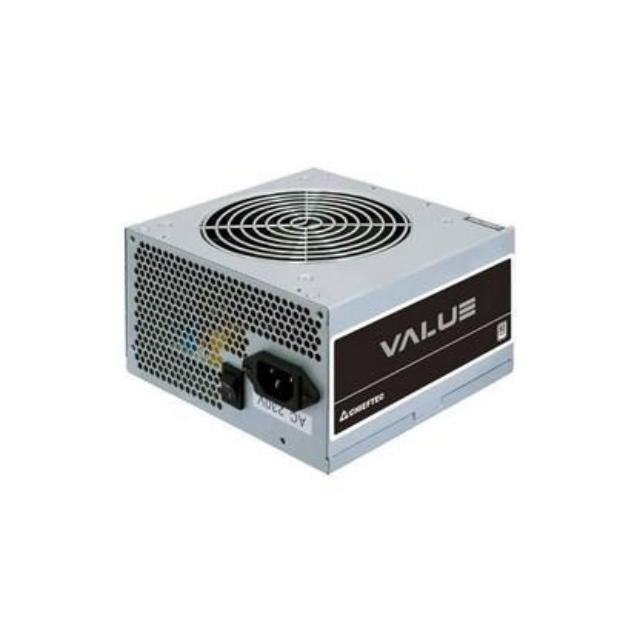PSU: (116, 159, 522, 496)
